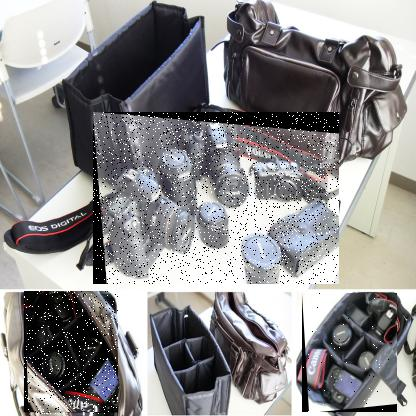Camera: (94, 113, 341, 286), (25, 293, 120, 416), (303, 294, 399, 414)
